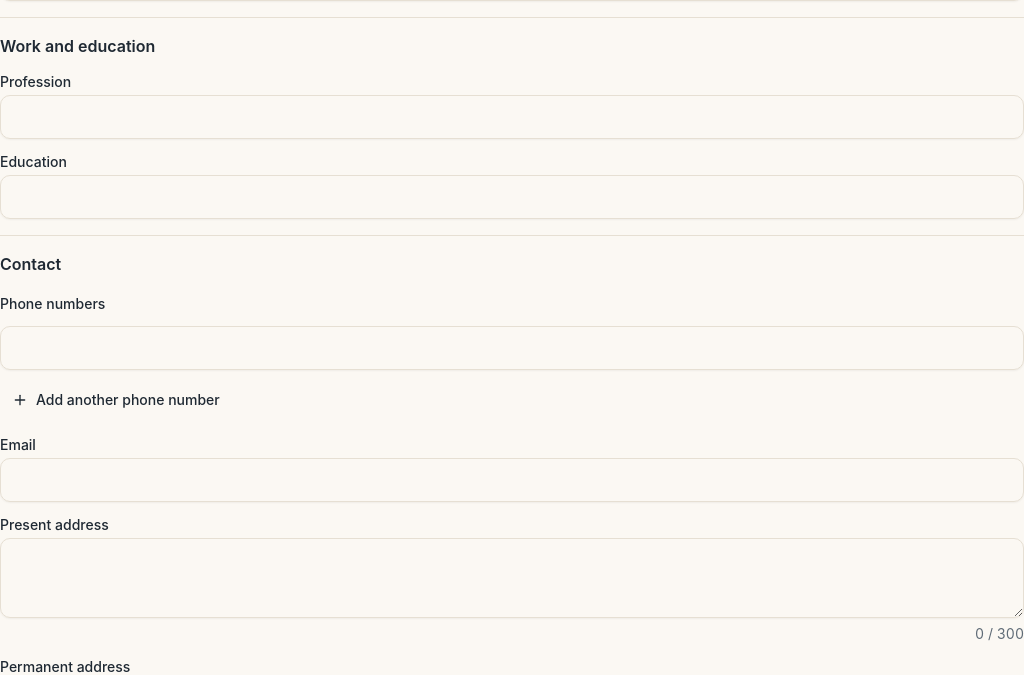
Test: PersonDetailsForm (P5-01) › shows errors next to the field, in English
The width and height of the screenshot is (1024, 675).
(page scrolled)
Type "call me" into the field named "Phone 1" at (512, 348), box [0,326,1023,370]
Wait 800 ms
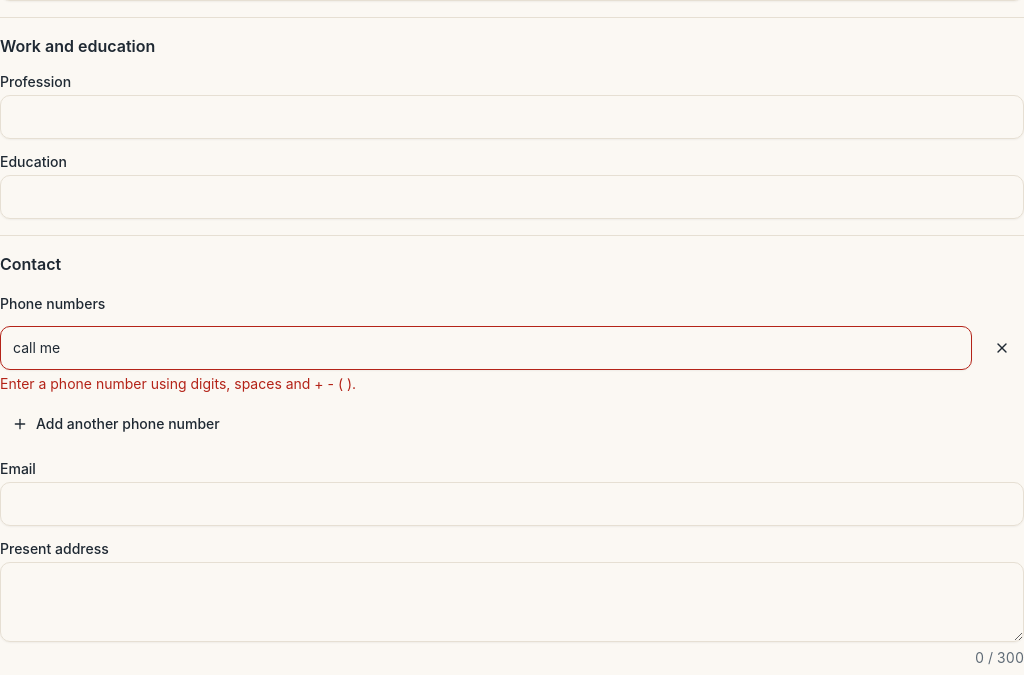
Check: the text "Enter a phone number using digits, spaces and + - ( )." is shown, box [0,375,356,392]
Type "not an email" into the field labelled "Email" at (512, 504), box [0,482,1023,526]
Wait 800 ms
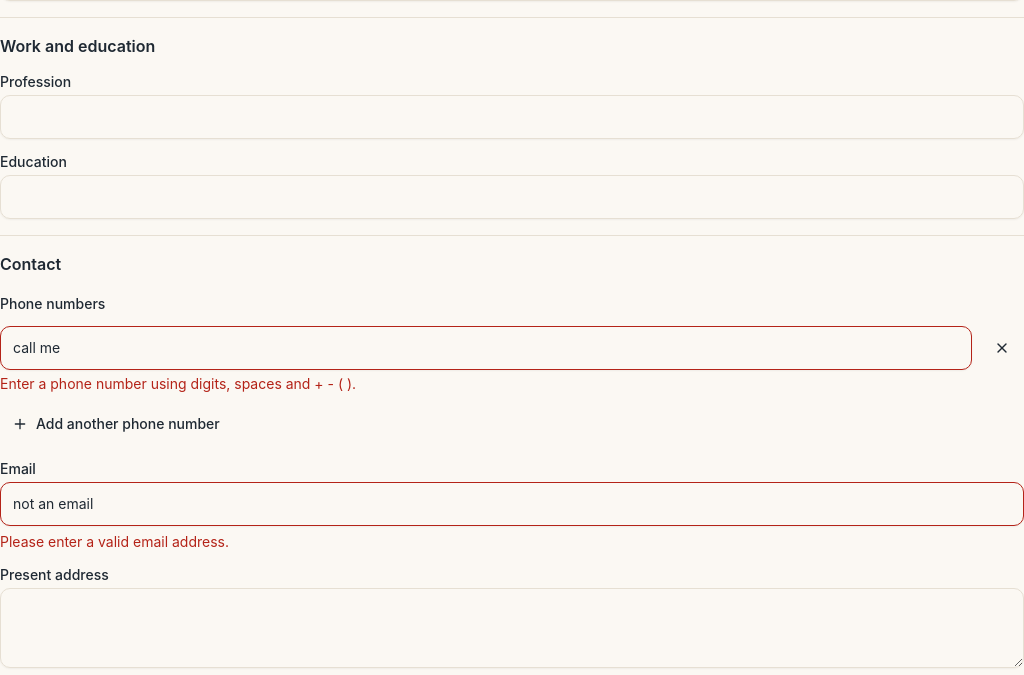
Check: the text "Please enter a valid email address." is shown, box [0,533,229,550]
